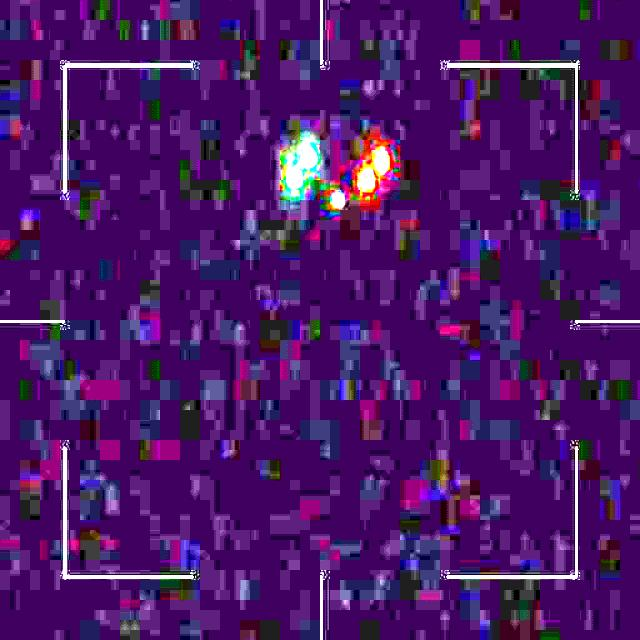bird: (284, 138, 391, 214)
